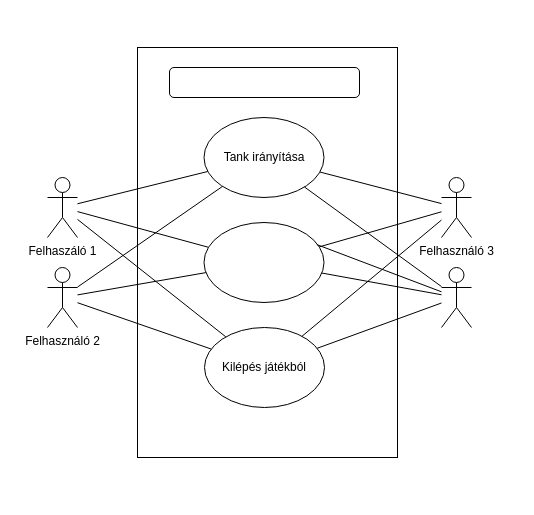
This 534x515 diagram has some shape labels left out. Each missing label, with the centre of its shape:
2 vs 2 Játék Use-Case diagram: [264,82]
Felhasználó 4: [456,297]
Lövés a Tankkal: [263,262]
